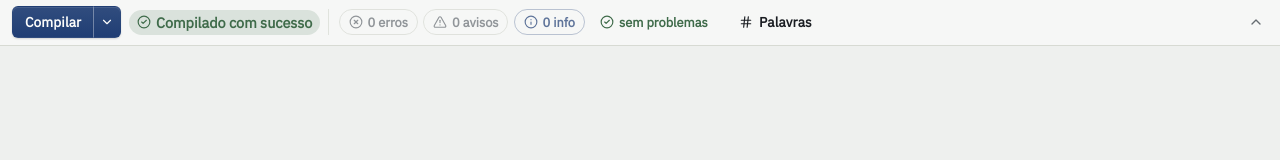
it: BuildPanel failure without structured errors › still reports a clean compile when the build succeeded with nothing to show
Expected: the text "Compilado com sucesso" is shown, [129, 10, 320, 35]
Expected: the text "sem problemas" is shown, [600, 14, 708, 31]
Click the button named "Mostrar logs". click: (1256, 22)
box: [1244, 10, 1268, 34]
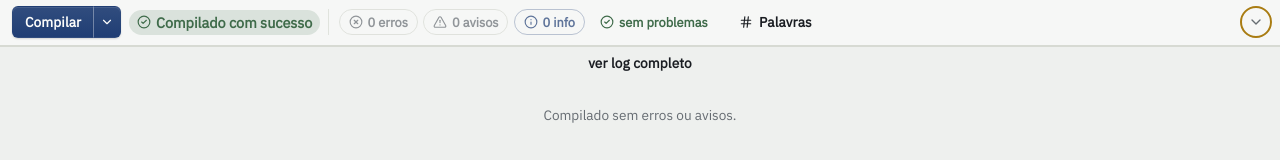
Now the text "Compilado sem erros ou avisos." is shown, box [543, 106, 736, 124]
